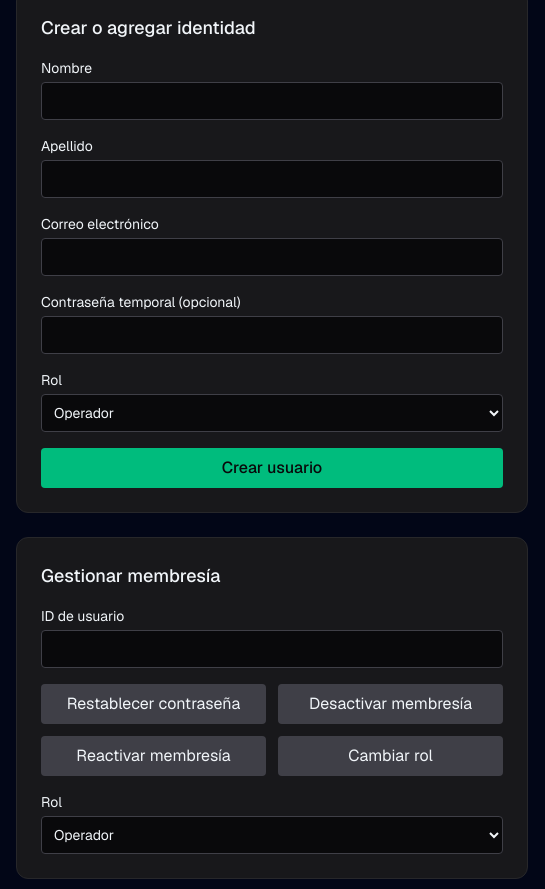
Test: AdminUserForm › reports a reactivation HTTP error without exposing response secrets
Type "user-1" into the field labelled "ID de usuario" at coordinates (272, 649), box [41, 630, 503, 668]
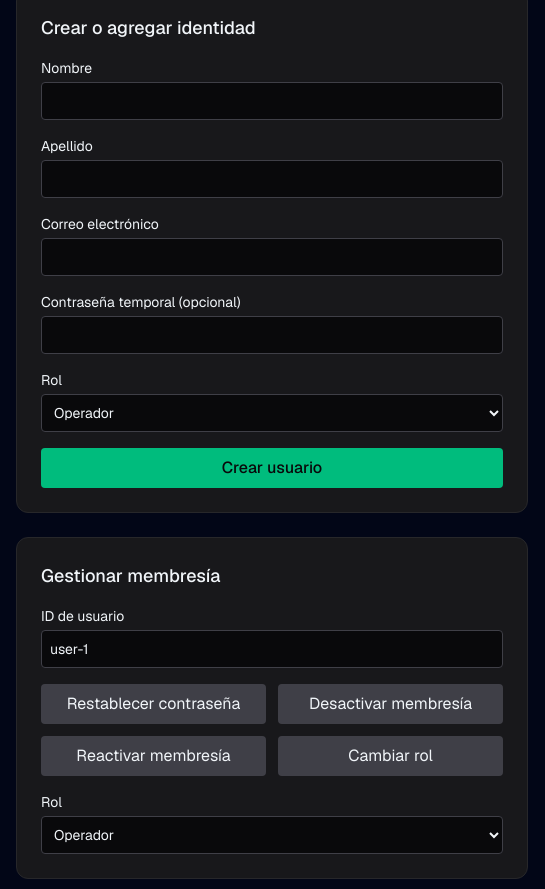
Click the button "Reactivar membresía" at coordinates (154, 756), box [41, 736, 266, 776]
(page scrolled)
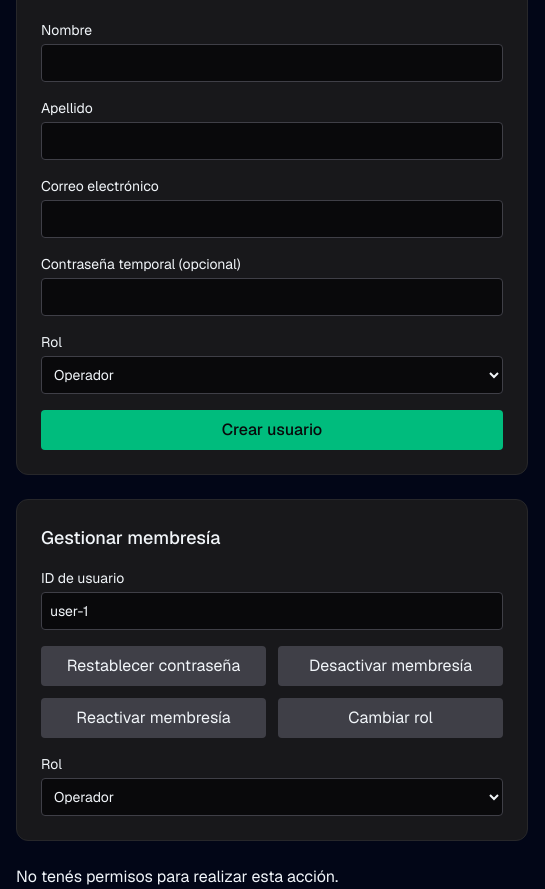
Result: the message reads "No tenés permisos para realizar esta acción." at [16, 866, 338, 887]
